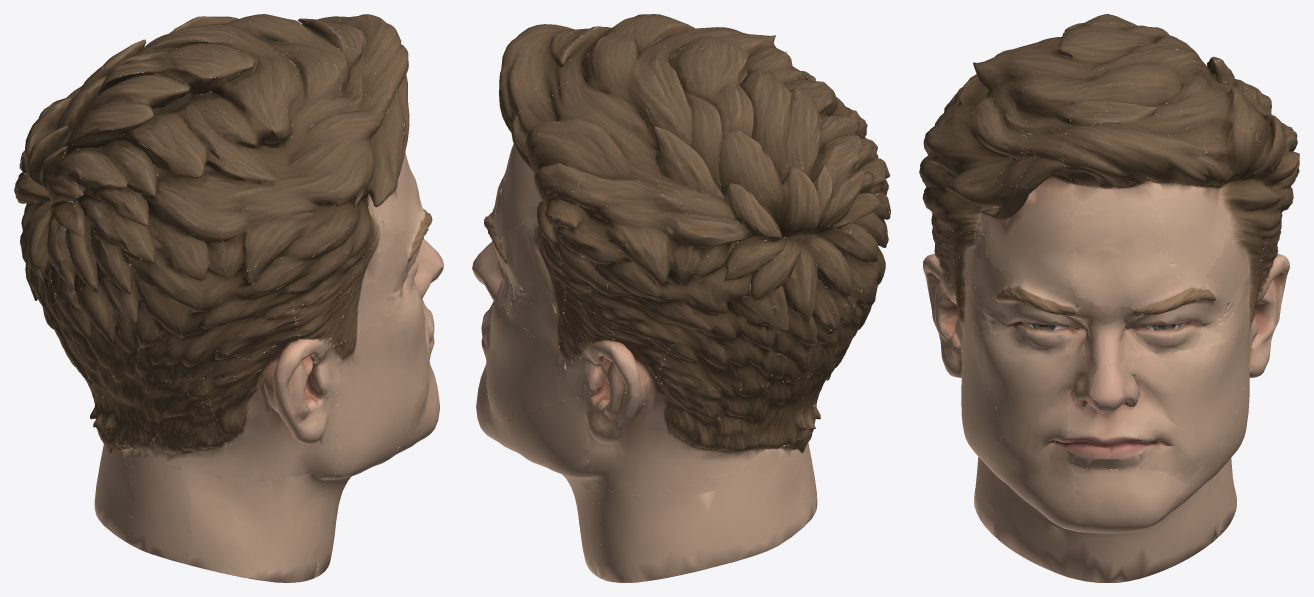
The model's file is musk.glb.
3 renders of one model, left to right at view 1: azimuth 30°, elevation 25°; view 2: azimuth 150°, elevation 25°; view 3: azimuth 270°, elevation 25°, orthographic. The views are drawn at different scales.
Visible parts, largest first — view 1: tripo_node_178e4cee-7061-4770-b64b-a520b625137a; view 2: tripo_node_178e4cee-7061-4770-b64b-a520b625137a; view 3: tripo_node_178e4cee-7061-4770-b64b-a520b625137a.
Boxes of the visible parts, left/top/right/bottom form: tripo_node_178e4cee-7061-4770-b64b-a520b625137a: left=14, top=14, right=443, bottom=582; tripo_node_178e4cee-7061-4770-b64b-a520b625137a: left=472, top=14, right=890, bottom=582; tripo_node_178e4cee-7061-4770-b64b-a520b625137a: left=919, top=14, right=1299, bottom=582.
Size of the model in its own units: 0.28 by 0.35 by 0.2424.
1 material, 1 textured.
